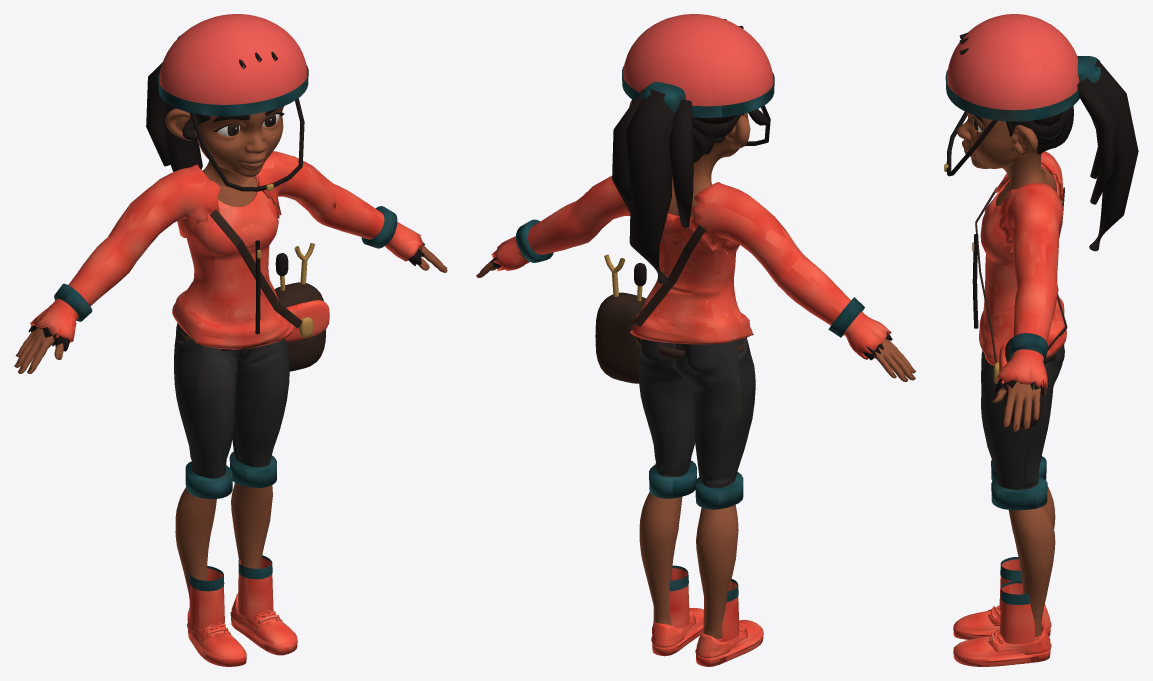
File: asha-v5-static.glb
3 renders of one model, left to right at view 1: azimuth 30°, elevation 25°; view 2: azimuth 150°, elevation 25°; view 3: azimuth 270°, elevation 25°, orthographic.
Visible parts, largest first — view 1: AshaV5.StaticVisualCheckpoint; view 2: AshaV5.StaticVisualCheckpoint; view 3: AshaV5.StaticVisualCheckpoint.
Boxes of the visible parts, x1,y1,x2,y2 form: AshaV5.StaticVisualCheckpoint: (14,14,447,666); AshaV5.StaticVisualCheckpoint: (476,14,915,666); AshaV5.StaticVisualCheckpoint: (944,14,1138,666).
Size of the model in its own units: 1.06 by 1.46 by 0.412.
Materials: 10 (5 with a texture image).
